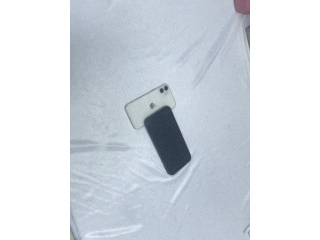phone: (142, 104, 192, 175), (123, 83, 179, 129)
